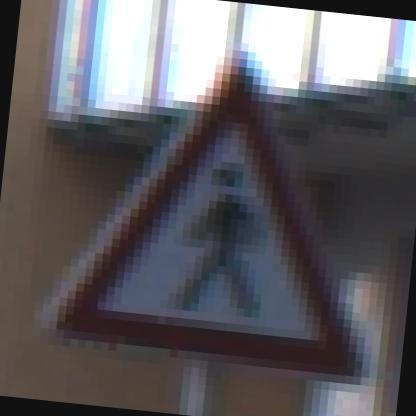crosswalk: (32, 36, 403, 404)
